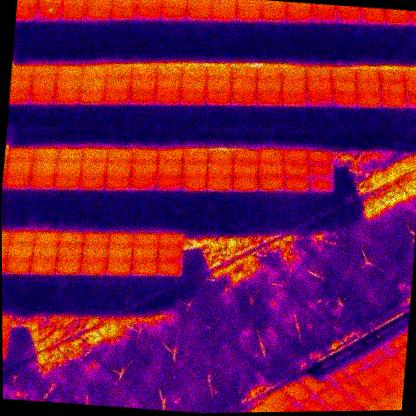Diode: (308, 150, 333, 167)
Hotspot: (384, 9, 412, 27), (36, 6, 63, 23), (58, 231, 84, 248), (81, 162, 107, 179), (232, 150, 258, 167), (32, 65, 59, 81), (284, 150, 309, 167), (157, 66, 183, 82), (331, 68, 357, 84), (34, 148, 59, 164), (206, 79, 232, 94), (182, 67, 208, 82), (207, 66, 233, 81), (281, 67, 307, 82), (207, 165, 233, 179), (17, 0, 39, 9), (37, 0, 64, 7)
Normal: (236, 7, 264, 26), (335, 7, 363, 26), (211, 6, 238, 25), (285, 6, 313, 24), (360, 8, 388, 26), (80, 258, 107, 276), (156, 260, 183, 278), (281, 91, 308, 109), (186, 7, 213, 25), (261, 6, 288, 24), (311, 7, 339, 24), (55, 173, 80, 192), (5, 257, 31, 275), (55, 258, 81, 276), (133, 231, 159, 249), (4, 172, 30, 190), (29, 174, 55, 192), (181, 175, 207, 193), (306, 90, 332, 108), (161, 6, 187, 24), (106, 259, 133, 276), (131, 260, 158, 277), (256, 91, 283, 108), (356, 92, 383, 109), (34, 231, 59, 249), (159, 232, 184, 250), (30, 258, 56, 275), (132, 246, 158, 263), (79, 175, 105, 192), (155, 176, 181, 193), (133, 148, 159, 165), (231, 90, 257, 107), (331, 93, 357, 110), (381, 93, 407, 110), (257, 177, 284, 193), (153, 91, 180, 107), (179, 91, 206, 107), (205, 91, 232, 107), (330, 80, 357, 96), (108, 246, 133, 263), (157, 246, 182, 263), (183, 149, 208, 166), (104, 176, 130, 192), (130, 176, 156, 192), (283, 178, 309, 194), (156, 164, 182, 180), (182, 163, 208, 179), (283, 164, 309, 180), (107, 148, 133, 164), (158, 150, 184, 166), (208, 150, 234, 166), (259, 150, 285, 166), (104, 90, 130, 106), (355, 80, 381, 96), (231, 66, 257, 82), (61, 8, 87, 24), (110, 7, 136, 23), (81, 65, 108, 80), (280, 79, 307, 94), (32, 245, 57, 261), (9, 231, 34, 247), (83, 148, 108, 164), (29, 89, 54, 105), (57, 65, 82, 81), (56, 246, 82, 261), (207, 177, 233, 192), (232, 178, 258, 193), (106, 162, 132, 177), (8, 149, 34, 164), (233, 164, 259, 179), (58, 148, 84, 163), (308, 165, 334, 180), (129, 92, 155, 107), (105, 78, 131, 93), (155, 79, 181, 94), (256, 79, 282, 94), (306, 79, 332, 94), (380, 81, 406, 96), (256, 67, 282, 82), (355, 69, 381, 84), (379, 69, 405, 84), (136, 8, 162, 23), (53, 90, 78, 105), (56, 79, 81, 94), (130, 79, 155, 94), (132, 66, 157, 81), (87, 7, 112, 22), (56, 162, 82, 176), (132, 163, 158, 177), (258, 165, 284, 179), (79, 92, 105, 106), (80, 79, 106, 93), (181, 79, 207, 93), (231, 79, 257, 93), (107, 67, 133, 81), (306, 68, 332, 82), (9, 88, 30, 105), (8, 245, 33, 259), (82, 245, 107, 259), (84, 233, 109, 247), (109, 233, 134, 247), (6, 162, 31, 176), (31, 162, 56, 176), (309, 179, 334, 193), (31, 78, 56, 92), (16, 7, 37, 23), (11, 65, 33, 79), (10, 78, 31, 91), (161, 0, 187, 10), (185, 0, 212, 9), (62, 0, 88, 9), (112, 0, 138, 9), (88, 0, 113, 9), (137, 0, 162, 9), (404, 71, 416, 85), (405, 82, 416, 97), (409, 11, 416, 28)
